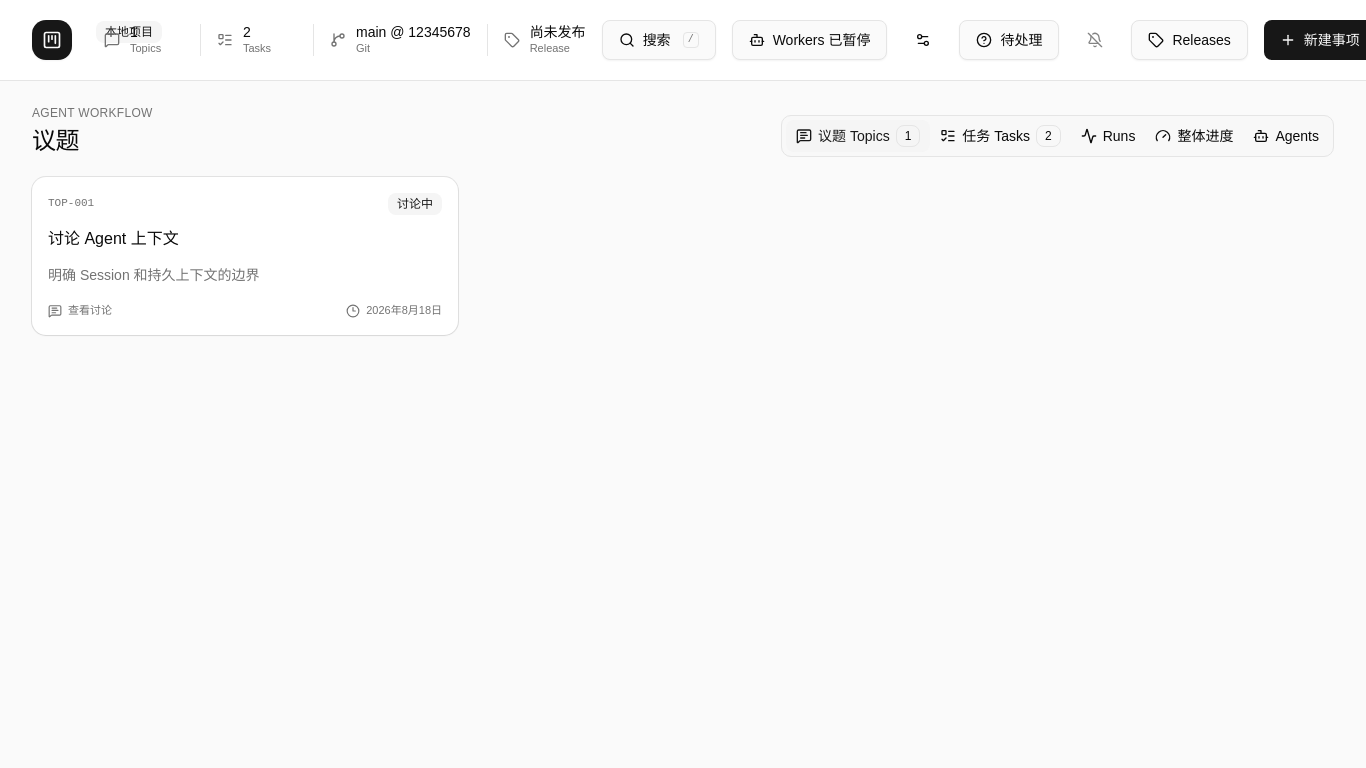
Test case: App › 从顶部 Git 状态查看本地仓库与跟踪信息
Click the button with aria-label "Git 仓库信息" at point(400, 40), box [330,24,471,56]
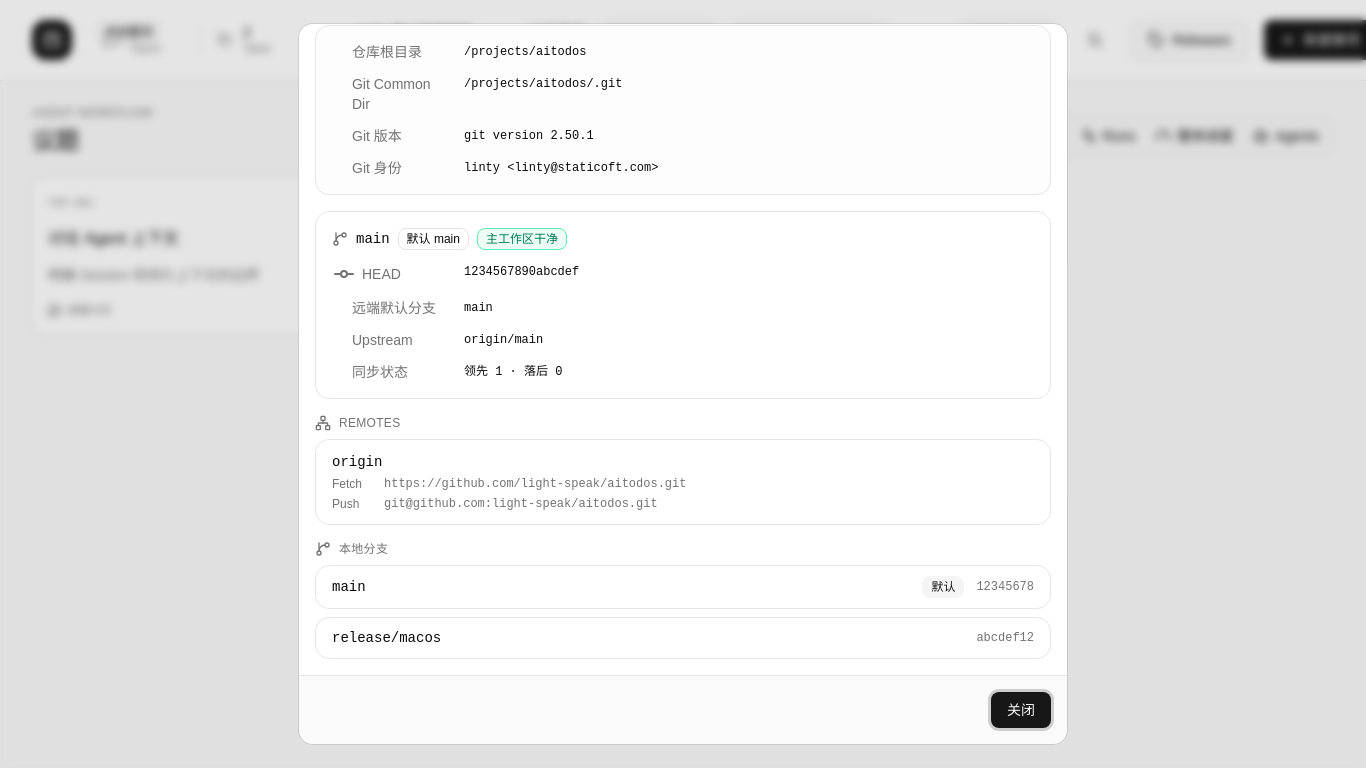
Check: the text "/projects/aitodos/.git" is shown, box [464,77,622,91]
Check: the text "origin/main" is shown, box [464,333,543,347]
Check: the text "领先 1 · 落后 0" is shown, box [464,365,562,379]
